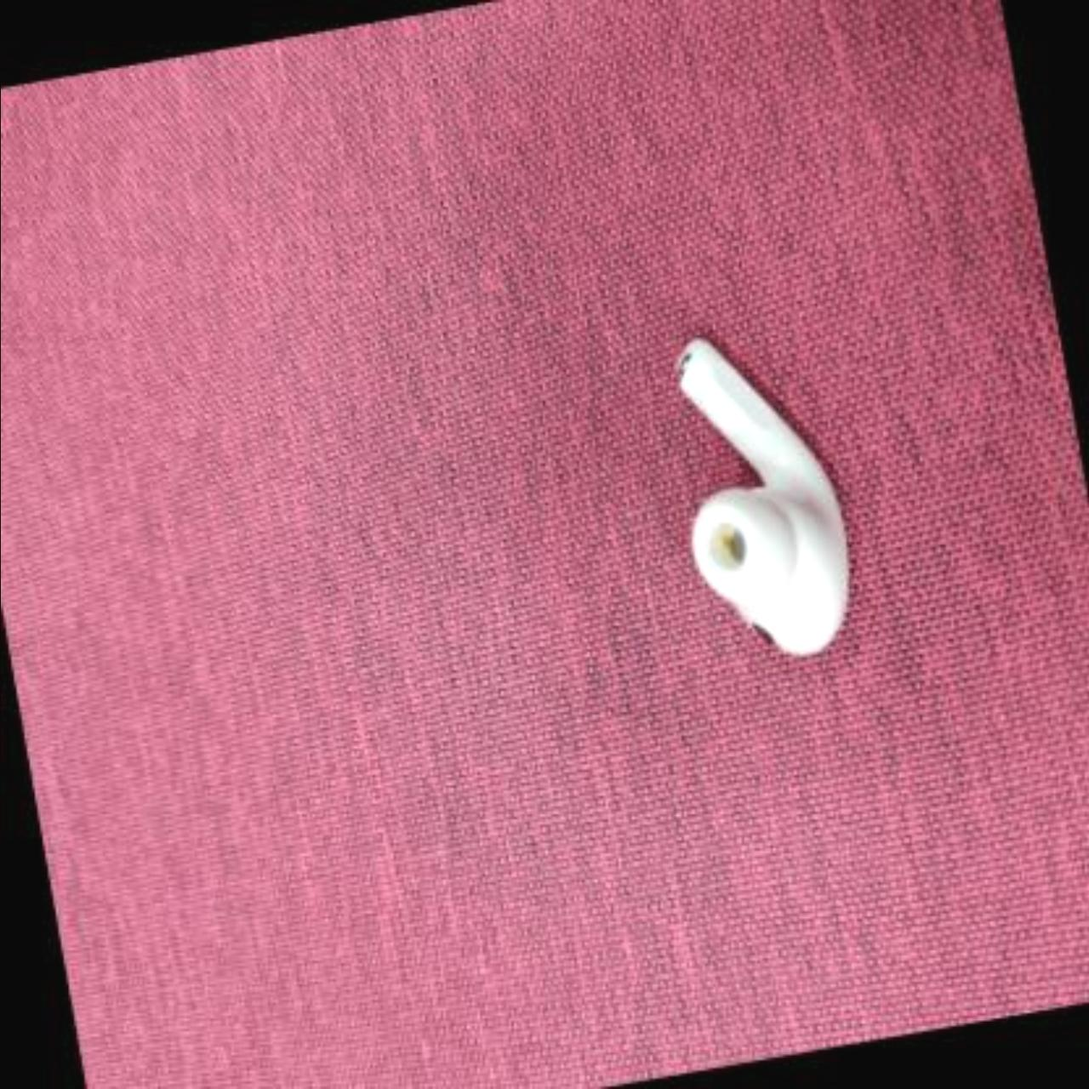Airpods_Units: (622, 299, 884, 712)
